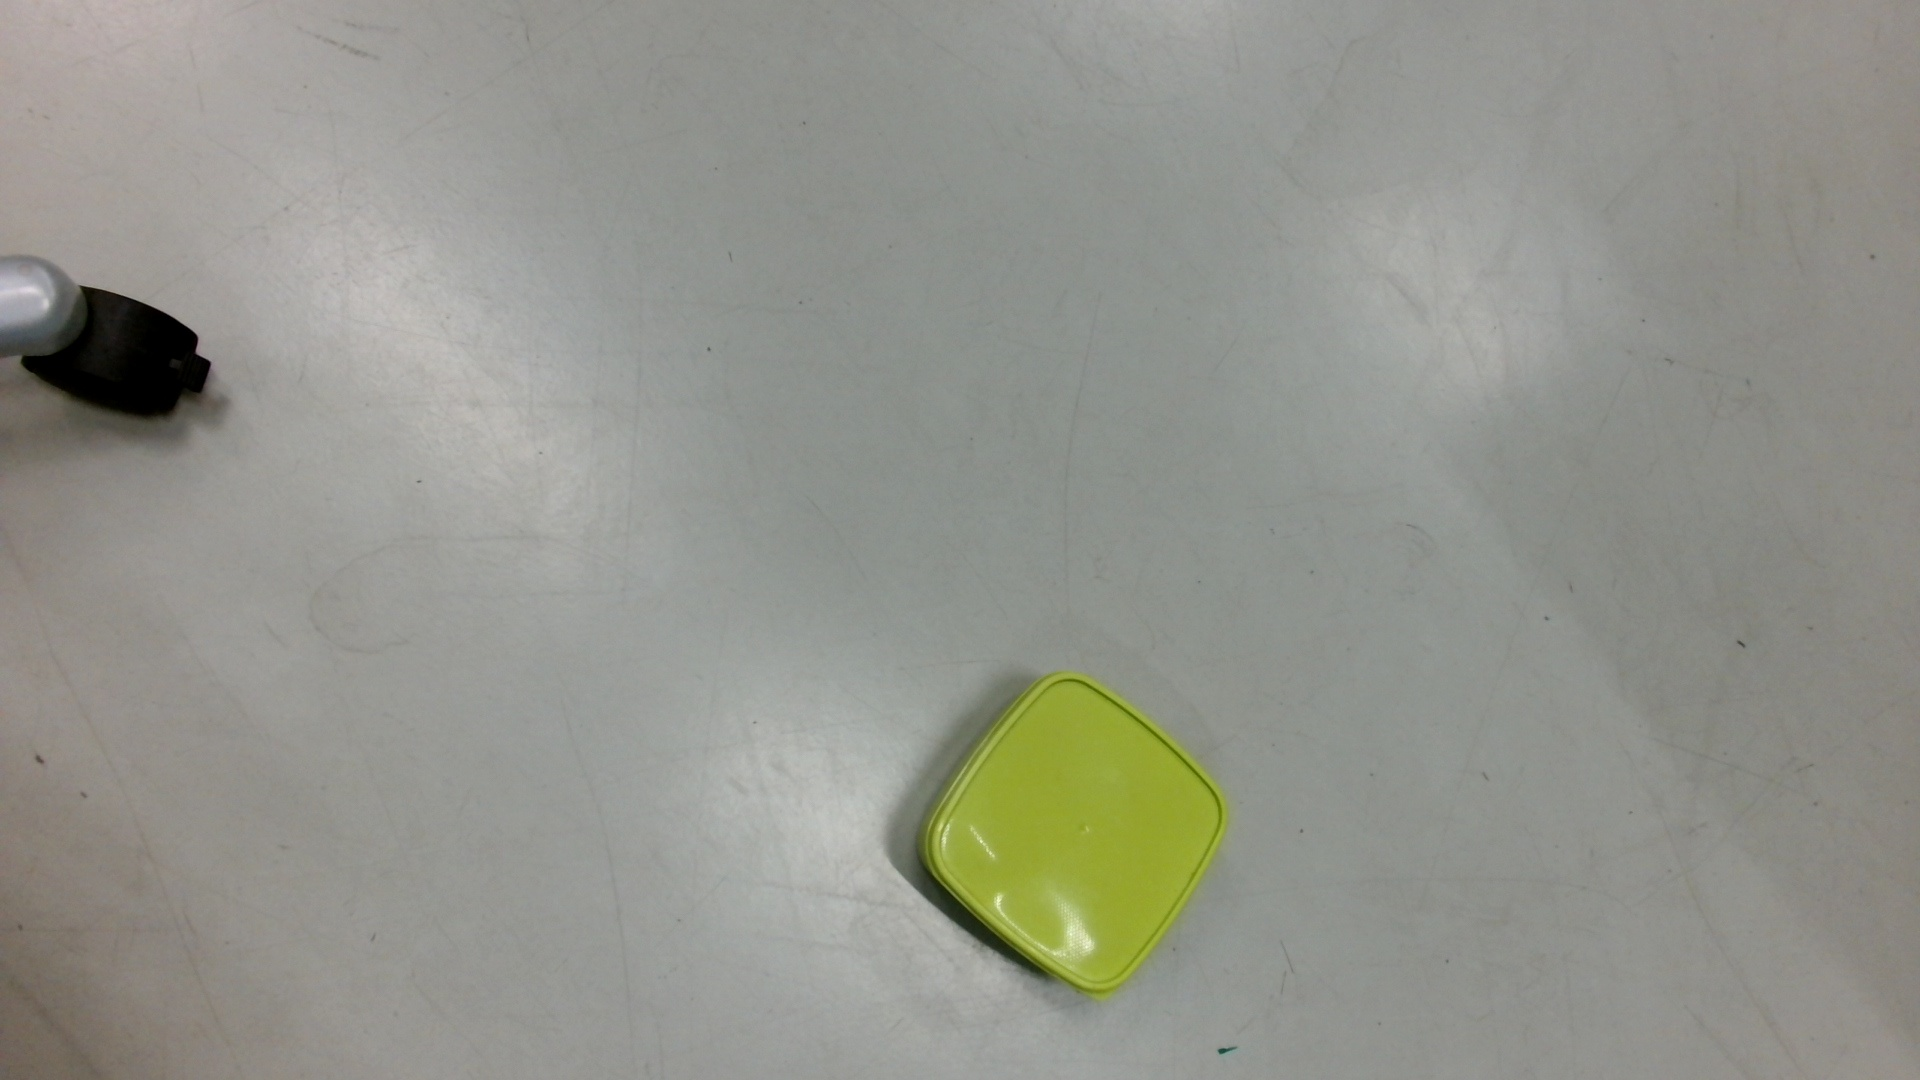Box: (905, 669, 1237, 1005)
